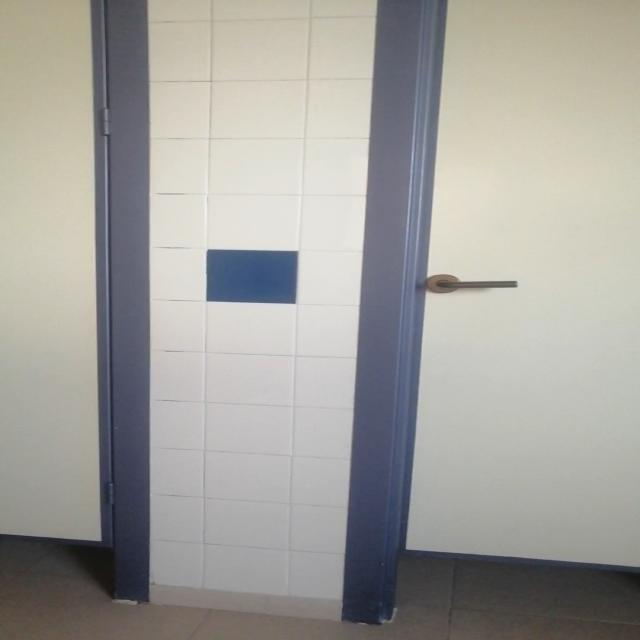door_handle: (432, 278, 522, 291)
